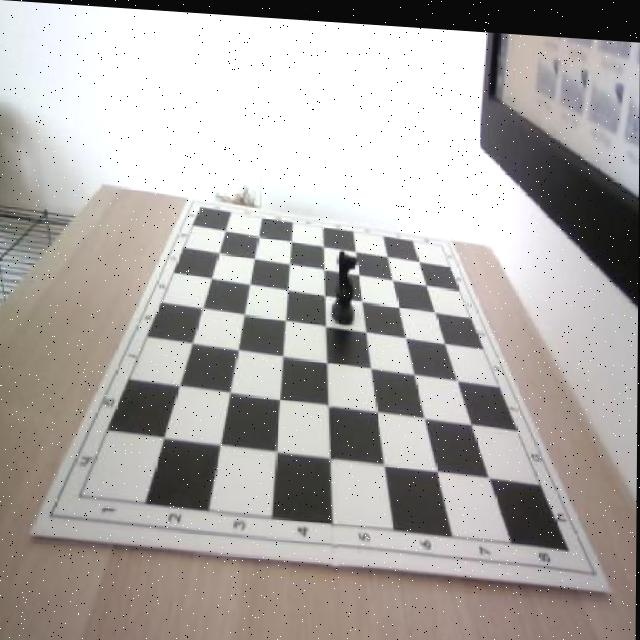black-king: (332, 244, 361, 320)
